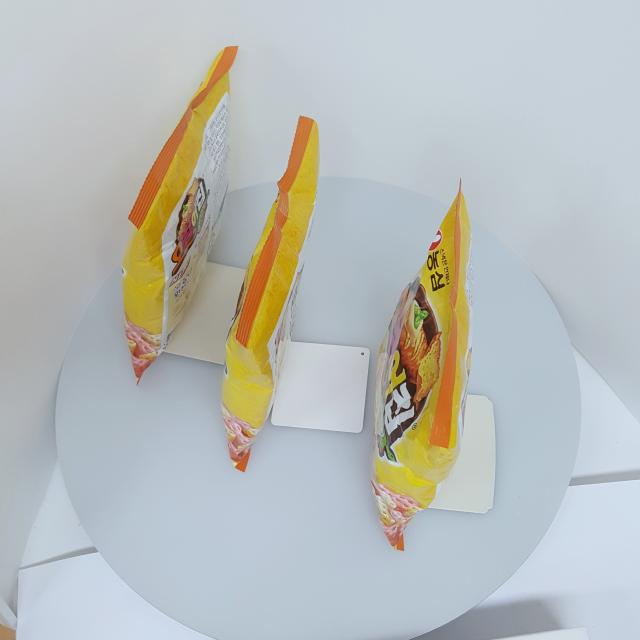-83G: (122, 46, 240, 387), (371, 179, 476, 552), (222, 116, 321, 474)
